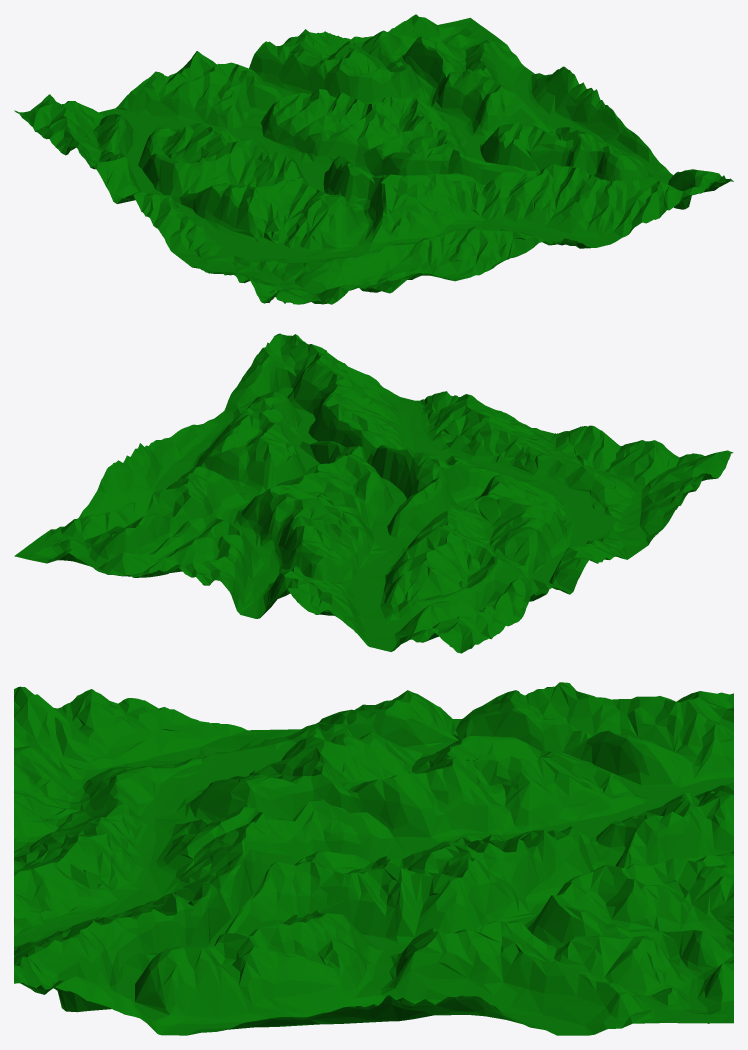
File: Terrain-poly.fbx
The picture shows the model from 3 angles, top to bottom: view 1: azimuth 30°, elevation 25°; view 2: azimuth 150°, elevation 25°; view 3: azimuth 270°, elevation 25°; orthographic projection. The views are drawn at different scales.
Parts seen in each view (by area): view 1: Mesh; view 2: Mesh; view 3: Mesh.
Part boxes in pixels (bbox=[...]): Mesh: bbox=[14, 14, 733, 304]; Mesh: bbox=[14, 333, 733, 653]; Mesh: bbox=[14, 682, 733, 1035].
Bounding box in the file's own units: 100 × 9.25 × 100.
